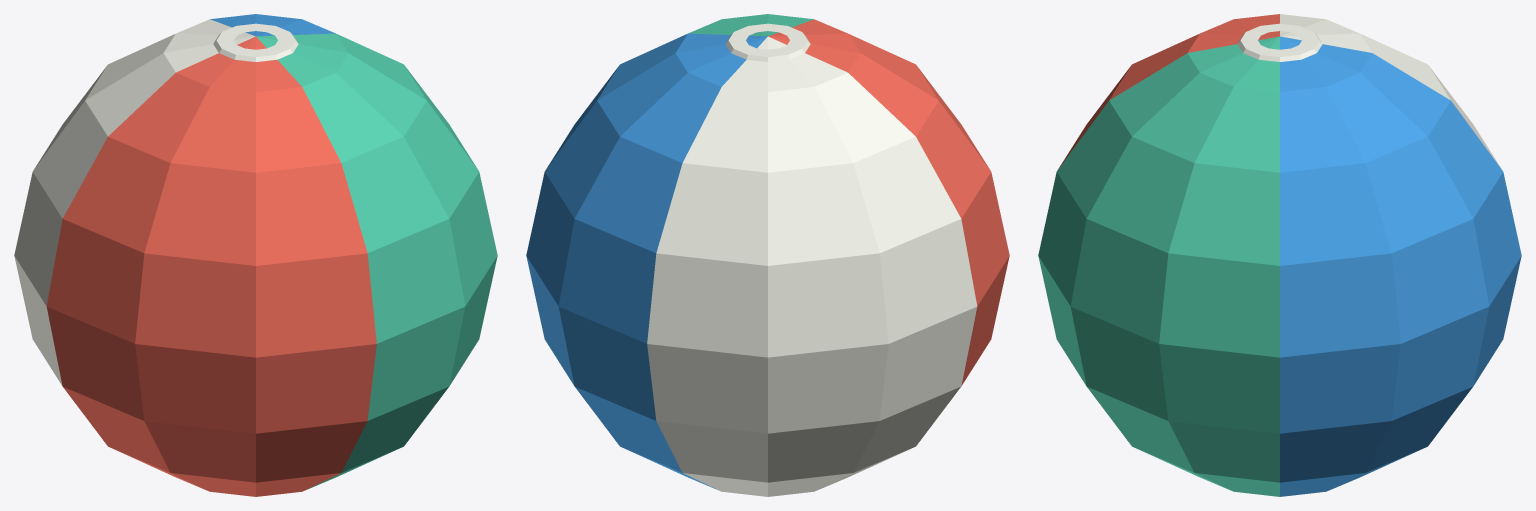
The model's file is beach_ball.glb.
3 renders of one model, left to right at view 1: azimuth 30°, elevation 25°; view 2: azimuth 150°, elevation 25°; view 3: azimuth 270°, elevation 25°, orthographic.
Parts seen in each view (by area): view 1: Striped beach ball, Top white cap; view 2: Striped beach ball, Top white cap; view 3: Striped beach ball, Top white cap.
Boxes of the visible parts, box(x1,y1,x2,y2) form: Striped beach ball: box(14, 14, 497, 496); Top white cap: box(213, 23, 298, 61); Striped beach ball: box(526, 14, 1009, 496); Top white cap: box(725, 23, 810, 61); Striped beach ball: box(1038, 14, 1521, 496); Top white cap: box(1237, 23, 1322, 61).
Size of the model in its own units: 1.1 by 1.1 by 1.1.
